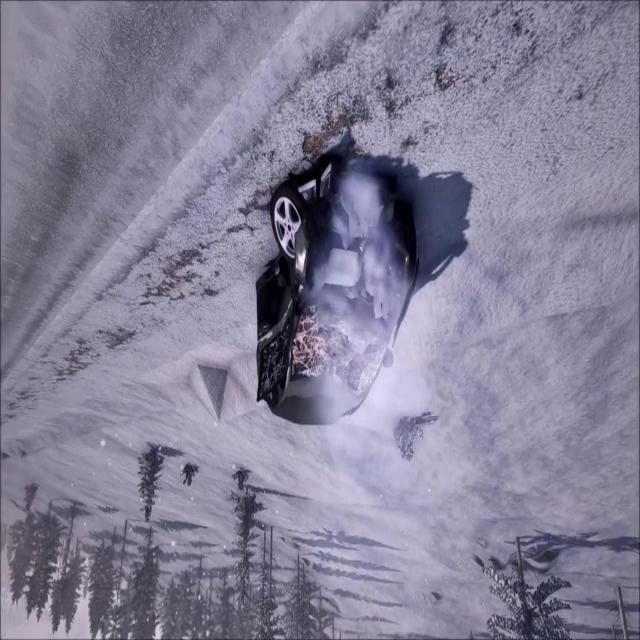severe: (250, 151, 425, 431)
